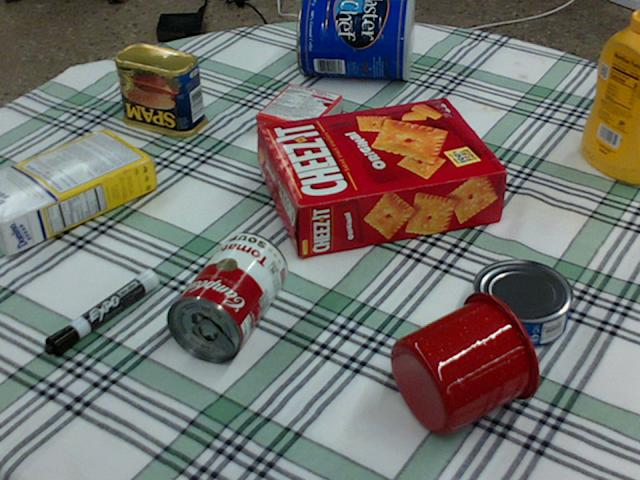cracker_box: (261, 97, 505, 256)
gelatin_box: (254, 81, 341, 147)
large_marker: (42, 269, 157, 357)
master_chef_can: (296, 0, 411, 79)
mug: (390, 288, 541, 435)
mustard_bottle: (579, 8, 639, 183)
potted_meat_can: (115, 43, 206, 136)
sugar_box: (0, 130, 154, 254)
tomato_soup_can: (165, 229, 287, 361)
tuna_fish_can: (472, 258, 574, 347)
